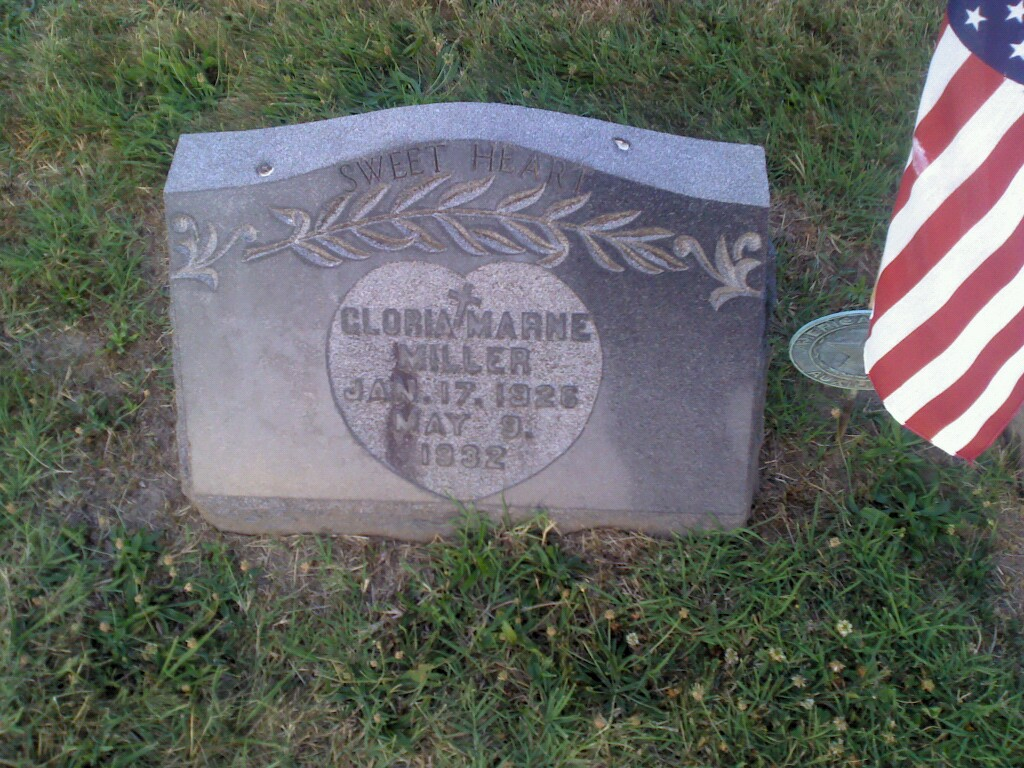upright: (155, 98, 782, 546)
